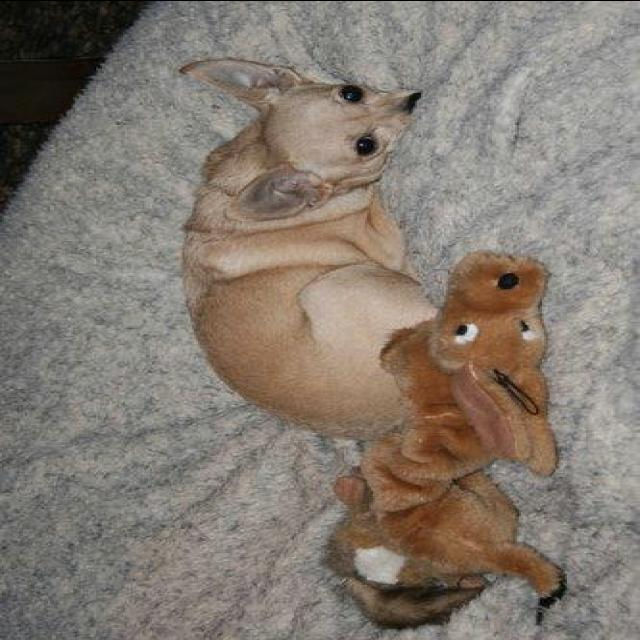chihuahua: (180, 56, 442, 438)
